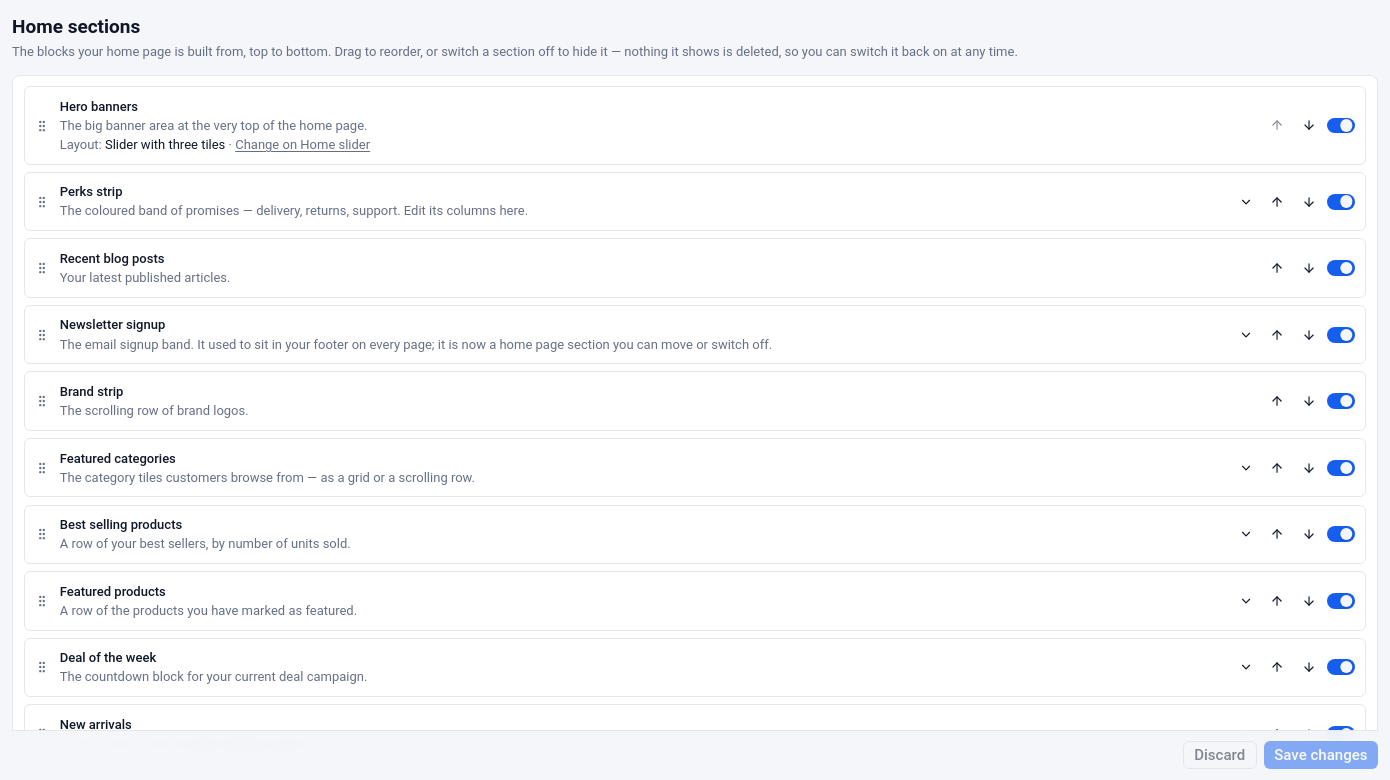
the perks strip editor › says why, outside the panel, so the reason survives the panel being shut
Click the button named "perks strip settings" at [1246, 202], box [1232,188,1260,216]
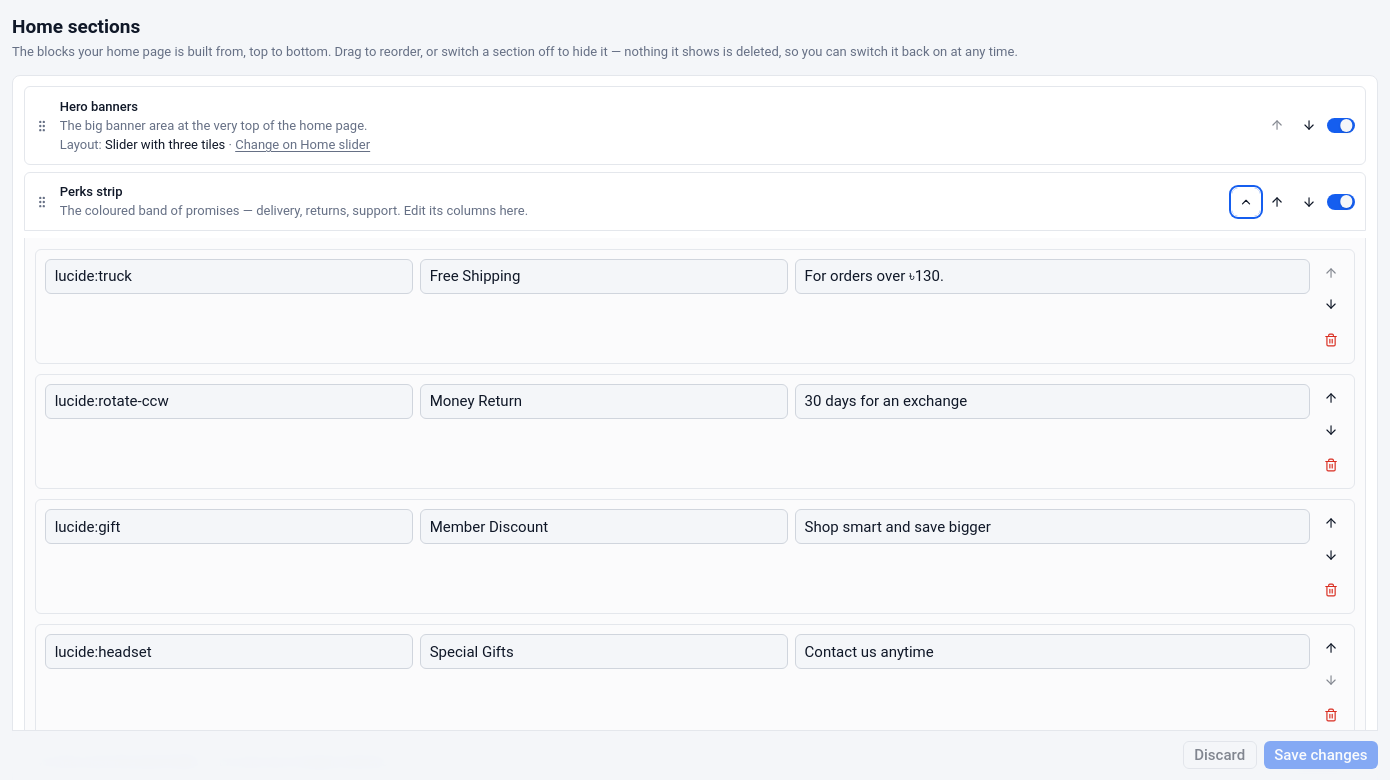
Clear the field named "Perk 2 title" at [604, 402], box [420,384,788,419]
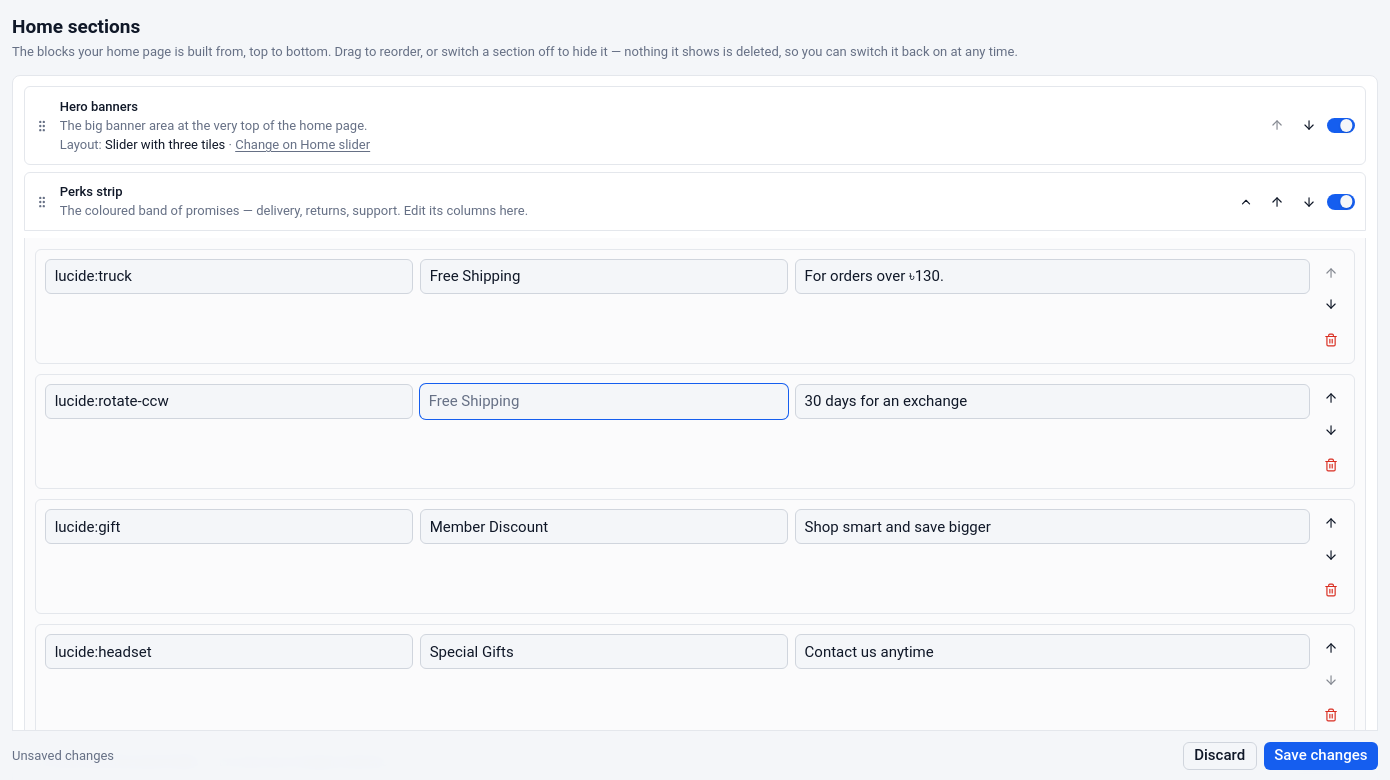
Click the button named "perks strip settings" at [1246, 202], box [1232,188,1260,216]
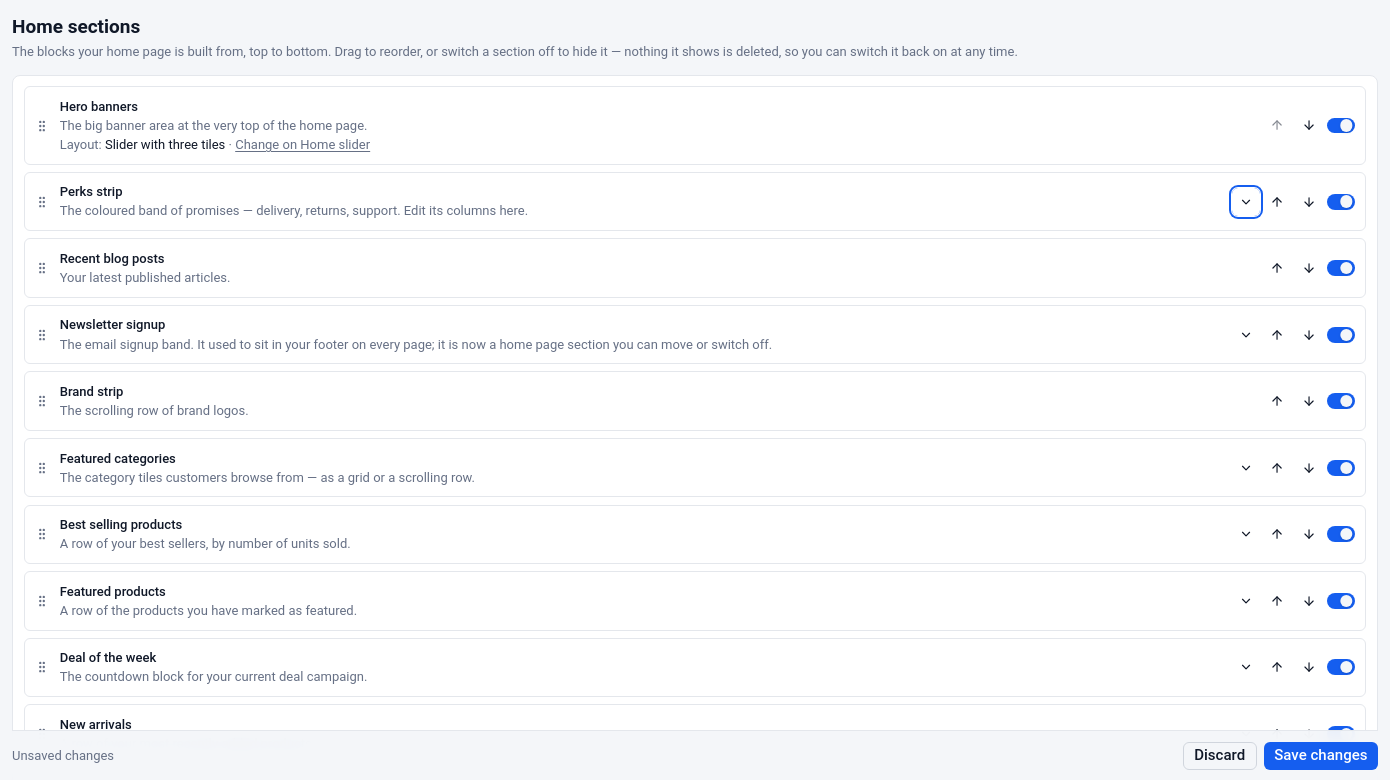
Click the button "Save changes" at [1321, 755], box [1264,741,1378,770]
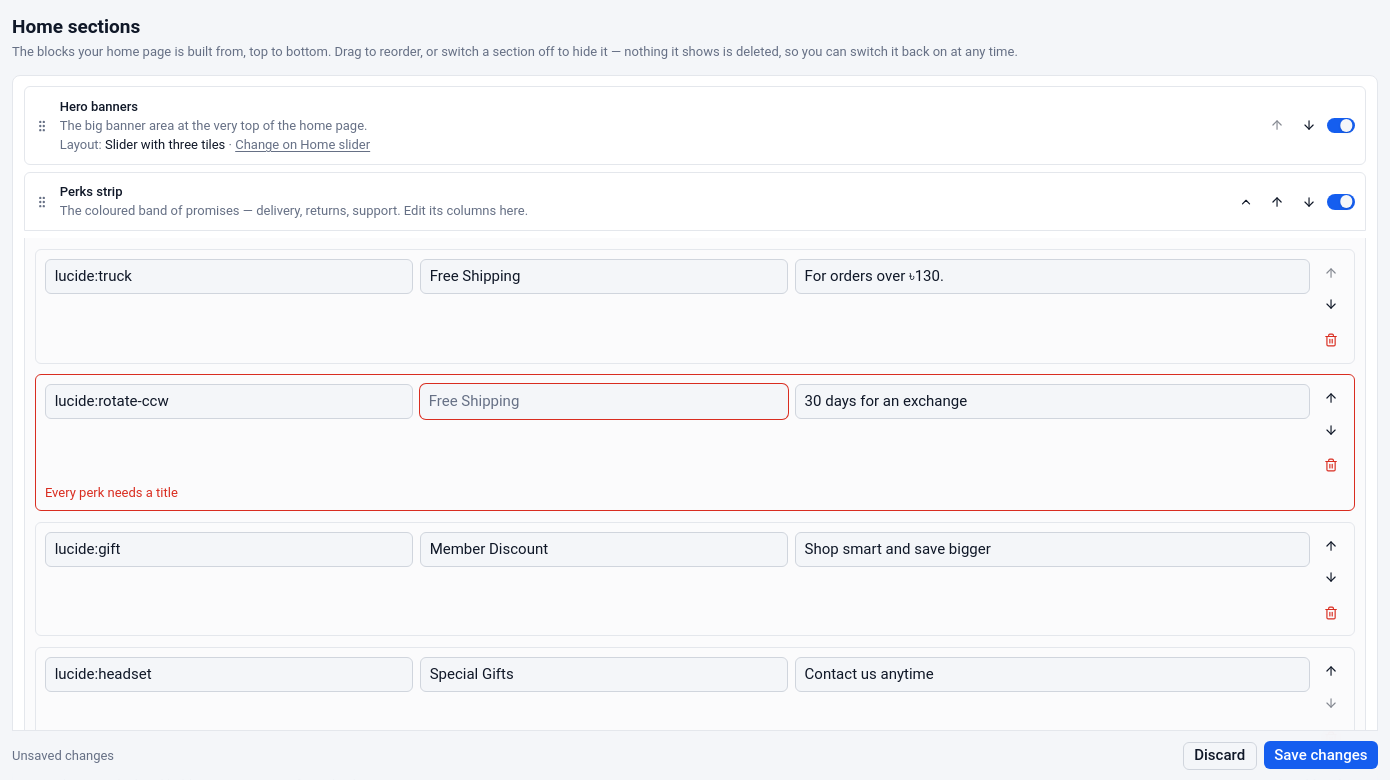
expect the field named "Perk 2 title" is shown: met, box [420,384,788,419]
